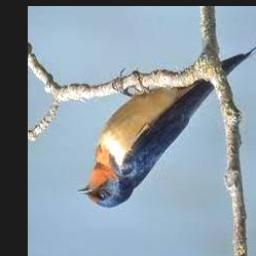Swallow: (78, 26, 256, 209)
